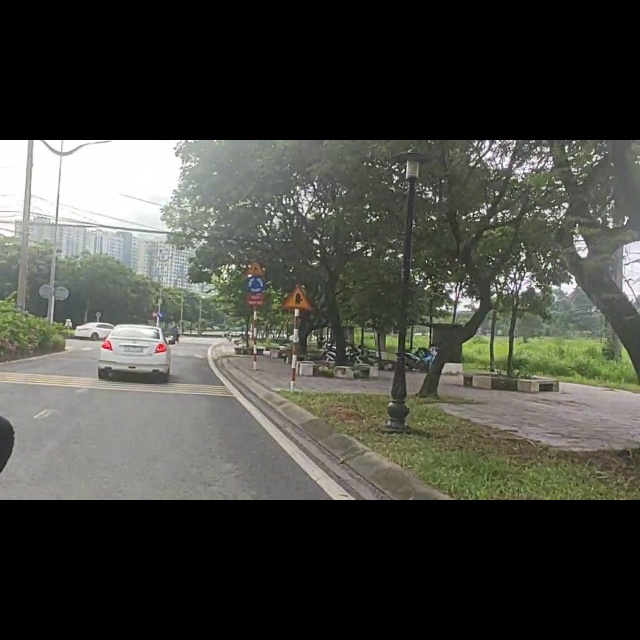bien_hieu_lenh: (283, 257, 311, 303), (245, 241, 267, 274), (243, 213, 267, 239), (157, 303, 165, 318), (151, 303, 157, 316)
